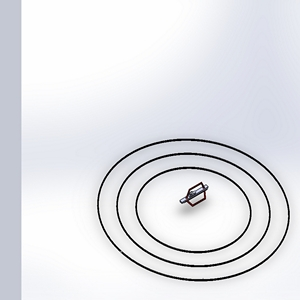circle: (82, 133, 295, 286)
submarine: (174, 180, 218, 216)
